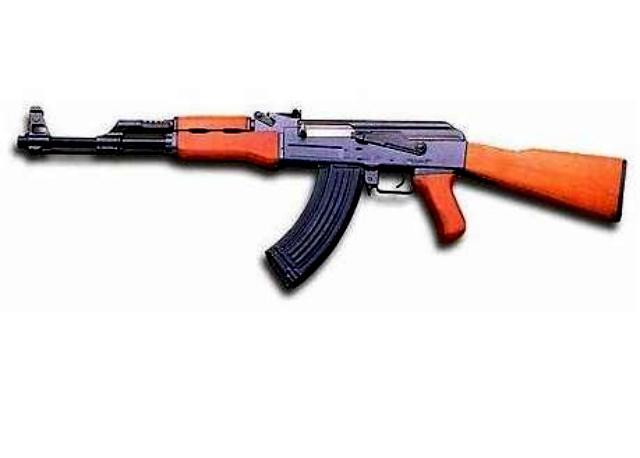rifle: (8, 97, 630, 306)
